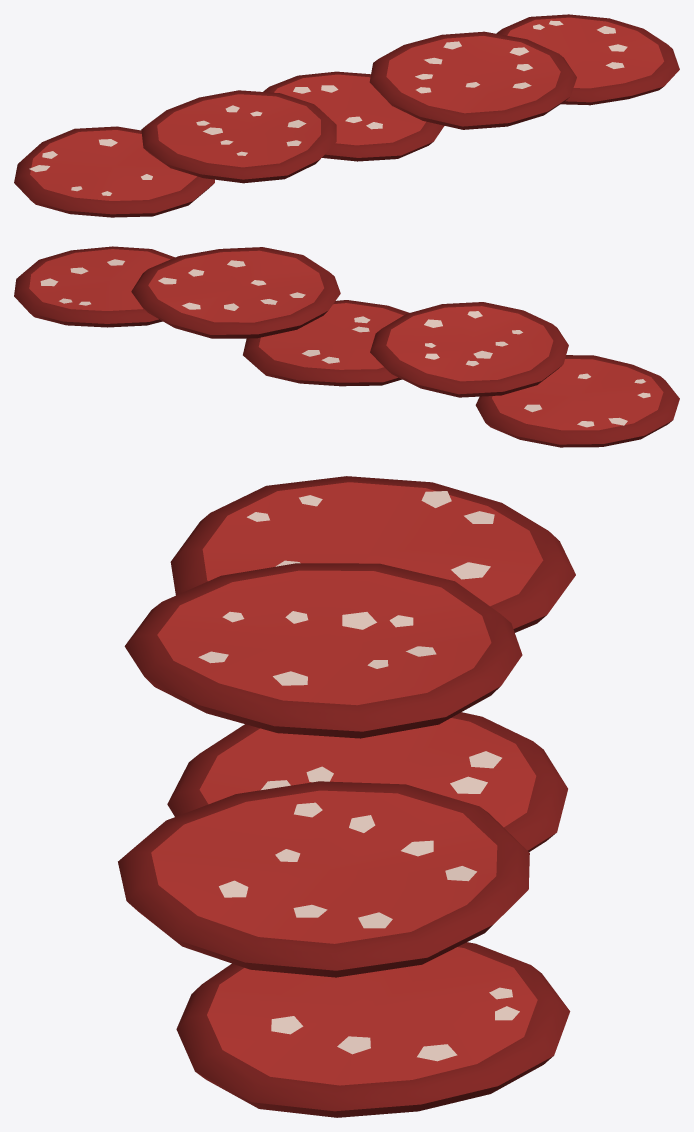
Rendered from Food_Salami.fbx.
3 views of the same model, one above another, from view 1: azimuth 30°, elevation 25°; view 2: azimuth 150°, elevation 25°; view 3: azimuth 270°, elevation 25° (orthographic). The views are drawn at different scales.
Parts seen in each view (by area): view 1: Meat, Casing, Fat; view 2: Meat, Casing, Fat; view 3: Meat, Casing, Fat.
Part boxes in pixels (<box>): Meat: <box>30,17,663,200</box>; Casing: <box>14,14,679,217</box>; Fat: <box>29,20,627,195</box>; Meat: <box>29,249,663,430</box>; Casing: <box>14,246,679,447</box>; Fat: <box>40,259,650,427</box>; Meat: <box>151,482,543,1085</box>; Casing: <box>118,476,575,1117</box>; Fat: <box>198,491,519,1061</box>.
Size of the model in its own units: 225 by 12.06 by 69.96.
